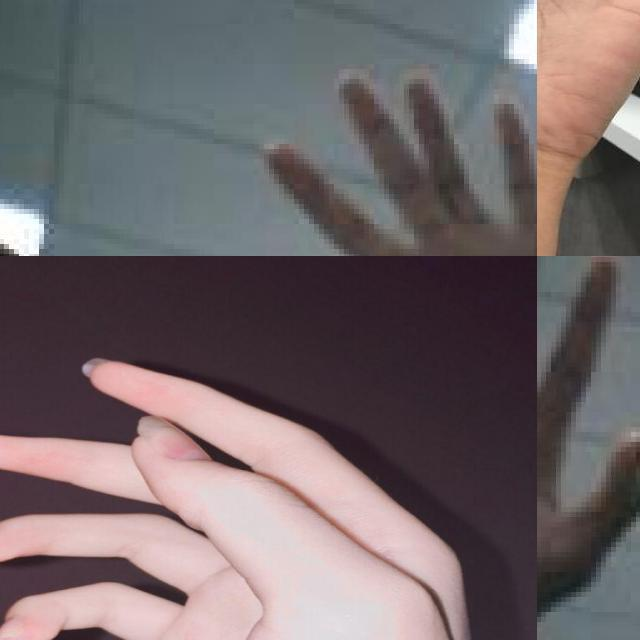no-gloves: (0, 356, 537, 640), (259, 64, 537, 256), (537, 256, 640, 640), (537, 0, 640, 205)
